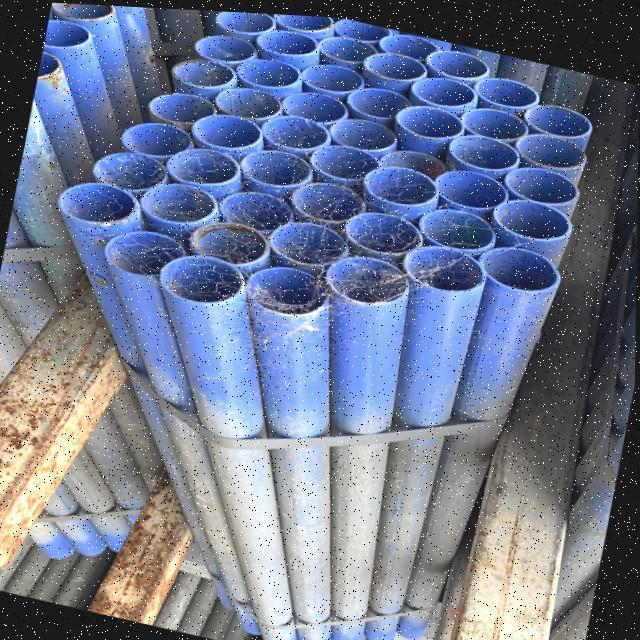pipe: (249, 259, 334, 312), (270, 218, 351, 273), (106, 224, 191, 276), (158, 252, 243, 302), (332, 250, 416, 299), (478, 240, 561, 287), (489, 188, 572, 235), (214, 187, 304, 230), (405, 238, 483, 287), (186, 218, 267, 264), (497, 158, 581, 202), (140, 179, 220, 225), (94, 149, 175, 194), (346, 207, 423, 254), (288, 177, 370, 221), (59, 180, 138, 224), (364, 160, 441, 205), (430, 161, 508, 204), (121, 119, 209, 157), (147, 89, 230, 129), (187, 110, 262, 154), (415, 201, 491, 244), (240, 143, 312, 187), (446, 126, 525, 166), (162, 144, 240, 184), (209, 78, 282, 119), (455, 100, 540, 135), (338, 82, 422, 116), (309, 138, 383, 176), (261, 108, 332, 147), (328, 112, 400, 149), (276, 86, 353, 120), (527, 97, 595, 135), (399, 98, 468, 135), (172, 55, 240, 91), (191, 30, 262, 64), (377, 145, 452, 177), (302, 57, 368, 92), (357, 47, 431, 78), (235, 52, 301, 85), (475, 70, 539, 103), (518, 129, 583, 160), (410, 74, 472, 104), (252, 25, 318, 53), (427, 44, 490, 73), (315, 33, 378, 62), (378, 28, 437, 55), (332, 15, 395, 38), (212, 9, 274, 31), (271, 11, 333, 30), (52, 2, 113, 20), (46, 21, 89, 45)
